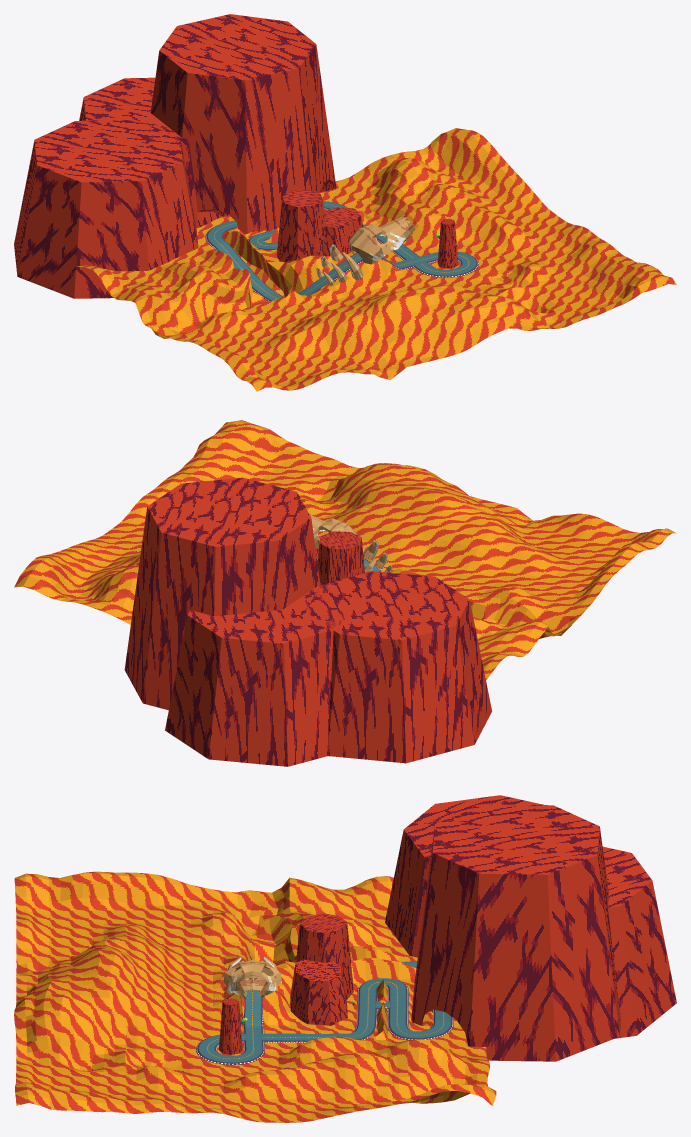
Rendered from track.glb.
3 views of the same model, one above another, from view 1: azimuth 30°, elevation 25°; view 2: azimuth 150°, elevation 25°; view 3: azimuth 270°, elevation 25° (orthographic). The views are drawn at different scales.
Visible parts, largest first — view 1: Plane -col, Cliff.002 -col, Cliff.006 -col, mainTrack -col, Cliff.005 -col, Cliff.003 -col, Skull -col, Cliff.007 -col, Cliff.001 -col; view 2: Plane -col, Cliff.006 -col, Cliff.002 -col, Cliff.005 -col, Cliff.003 -col, Skull -col; view 3: Plane -col, Cliff.002 -col, Cliff.005 -col, mainTrack -col, Cliff.006 -col, Cliff.007 -col, Cliff.003 -col, Skull -col, Cliff.001 -col.
Part boxes in pixels (x1,y1,x2,y2): Plane -col: [76, 128, 676, 391]; Cliff.002 -col: [150, 14, 336, 233]; Cliff.006 -col: [14, 119, 198, 298]; mainTrack -col: [205, 201, 478, 301]; Cliff.005 -col: [79, 77, 222, 228]; Cliff.003 -col: [276, 190, 325, 262]; Skull -col: [349, 216, 414, 264]; Cliff.007 -col: [323, 207, 362, 256]; Cliff.001 -col: [437, 218, 458, 268]; Plane -col: [14, 420, 676, 679]; Cliff.006 -col: [306, 571, 492, 763]; Cliff.002 -col: [124, 477, 320, 710]; Cliff.005 -col: [165, 582, 344, 766]; Cliff.003 -col: [317, 531, 364, 584]; Skull -col: [309, 514, 357, 548]; Plane -col: [14, 871, 496, 1122]; Cliff.002 -col: [411, 804, 620, 1061]; Cliff.005 -col: [602, 846, 676, 1038]; mainTrack -col: [196, 961, 453, 1064]; Cliff.006 -col: [385, 795, 543, 957]; Cliff.007 -col: [290, 959, 347, 1025]; Cliff.003 -col: [296, 913, 353, 999]; Skull -col: [223, 959, 281, 997]; Cliff.001 -col: [219, 998, 242, 1054].
Bounding box in the file's own units: 837 × 305 × 947.
5 materials, 5 textured.
